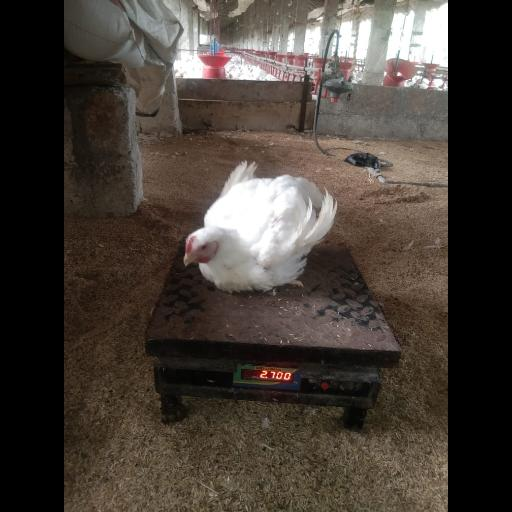chick: (184, 160, 337, 289)
